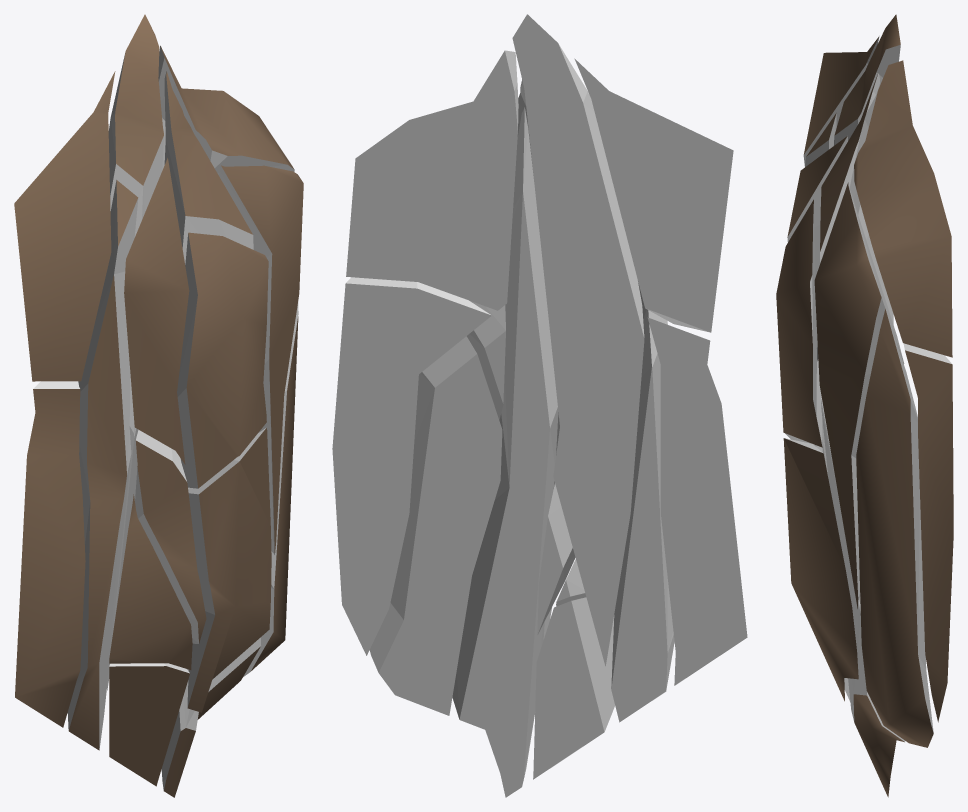
Rendered from Churches.glb.
3 renders of one model, left to right at view 1: azimuth 30°, elevation 25°; view 2: azimuth 150°, elevation 25°; view 3: azimuth 270°, elevation 25°, orthographic. The views are drawn at different scales.
Visible parts, largest first — view 1: Root.009, Root.013, Root.005, Root.012, Root.004, Root.003, Root.010, Root.001, Root.007, Root.011, Root.015, Root.008 (+3 smaller); view 2: Root.001, Root, Root.014, Root.006, Root.002, Root.013, Root.005, Root.009, Root.015, Root.011, Root.010; view 3: Root.002, Root.014, Root.010, Root.006, Root.004, Root.012, Root, Root.005, Root.008, Root.001, Root.003, Root.009 (+1 smaller).
Boxes of the visible parts, bbox=[...] form: Root.009: bbox=[67, 180, 138, 750]; Root.013: bbox=[15, 381, 85, 727]; Root.005: bbox=[14, 71, 115, 381]; Root.012: bbox=[177, 232, 268, 488]; Root.004: bbox=[187, 427, 271, 712]; Root.003: bbox=[124, 158, 189, 464]; Root.010: bbox=[218, 165, 303, 554]; Root.001: bbox=[107, 14, 164, 690]; Root.007: bbox=[109, 494, 192, 669]; Root.011: bbox=[135, 429, 206, 643]; Root.015: bbox=[109, 663, 189, 786]; Root.008: bbox=[164, 71, 253, 489]; Root.001: bbox=[512, 14, 644, 666]; Root: bbox=[452, 107, 558, 797]; Root.014: bbox=[346, 50, 518, 310]; Root.006: bbox=[332, 277, 491, 655]; Root.002: bbox=[369, 336, 502, 715]; Root.013: bbox=[647, 317, 747, 685]; Root.005: bbox=[574, 58, 733, 332]; Root.009: bbox=[611, 281, 674, 722]; Root.015: bbox=[533, 597, 614, 779]; Root.011: bbox=[537, 483, 575, 635]; Root.010: bbox=[466, 300, 505, 419]; Root.002: bbox=[856, 309, 933, 747]; Root.014: bbox=[854, 60, 952, 357]; Root.010: bbox=[814, 182, 904, 609]; Root.006: bbox=[903, 343, 953, 722]; Root.004: bbox=[783, 438, 858, 701]; Root.012: bbox=[776, 199, 822, 447]; Root: bbox=[821, 205, 905, 797]; Root.005: bbox=[803, 36, 879, 166]; Root.008: bbox=[820, 72, 879, 475]; Root.001: bbox=[834, 14, 900, 145]; Root.003: bbox=[787, 136, 847, 347]; Root.009: bbox=[805, 113, 836, 166].
Size of the model in its own units: 0.4622 by 1.03 by 0.2142.
